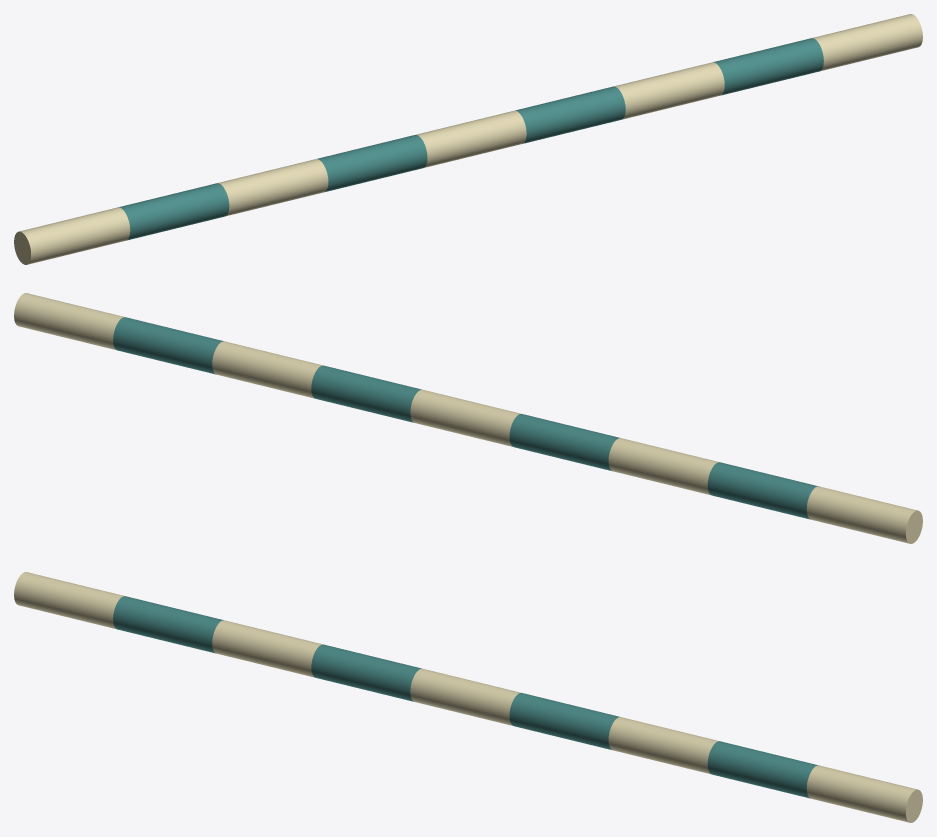
File: striped-pole.glb
3 renders of one model, top to bottom at view 1: azimuth 30°, elevation 25°; view 2: azimuth 150°, elevation 25°; view 3: azimuth 330°, elevation 25°, orthographic.
Visible parts, largest first — view 1: Jump_Pole_Lower; view 2: Jump_Pole_Lower; view 3: Jump_Pole_Lower.
Part boxes in pixels (x1,y1,x2,y2): Jump_Pole_Lower: [14, 14, 922, 264]; Jump_Pole_Lower: [14, 293, 922, 543]; Jump_Pole_Lower: [14, 572, 922, 822].
Size of the model in its own units: 3 by 0.1 by 0.1.
